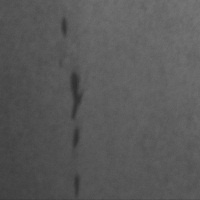inclusion: (65, 69, 87, 124), (69, 122, 84, 152), (57, 13, 72, 42), (69, 171, 83, 199)
